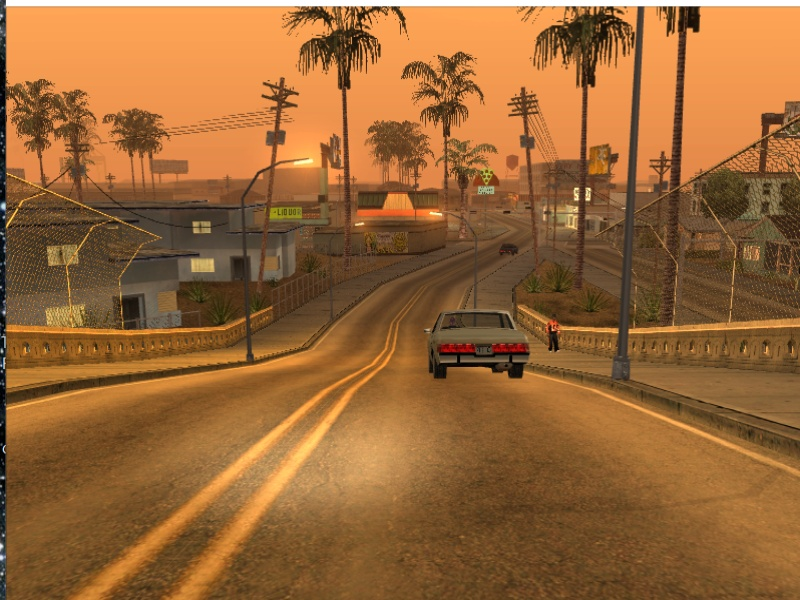person: (543, 314, 562, 357)
pole: (611, 11, 637, 391), (230, 189, 259, 369), (321, 241, 335, 326), (472, 231, 481, 322)
vehicle: (424, 308, 535, 385), (498, 242, 518, 260)
